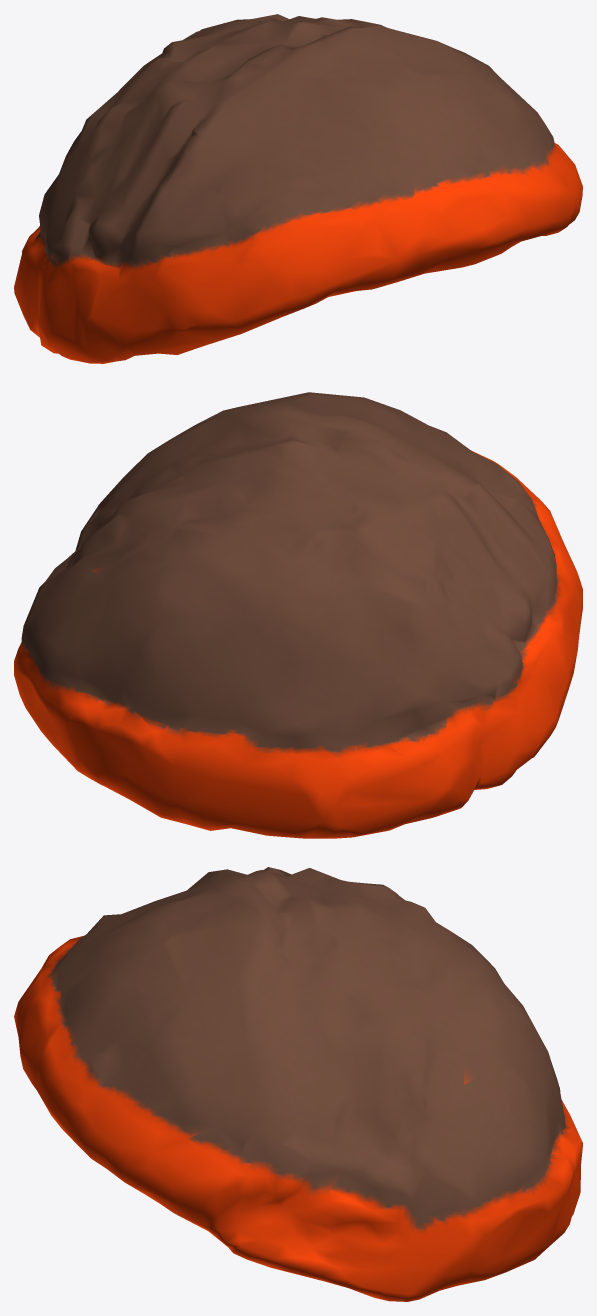
The model's file is knit cleveland.glb.
3 renders of one model, top to bottom at view 1: azimuth 30°, elevation 25°; view 2: azimuth 150°, elevation 25°; view 3: azimuth 270°, elevation 25°, orthographic. The views are drawn at different scales.
Parts seen in each view (by area): view 1: hat_knit_cleveland.001; view 2: hat_knit_cleveland.001; view 3: hat_knit_cleveland.001.
Boxes of the visible parts, left/top/right/bottom form: hat_knit_cleveland.001: left=14, top=14, right=582, bottom=363; hat_knit_cleveland.001: left=14, top=392, right=582, bottom=838; hat_knit_cleveland.001: left=14, top=867, right=582, bottom=1301.
Bounding box in the file's own units: 0.37 × 0.2294 × 0.3549.
1 material, 1 textured.
